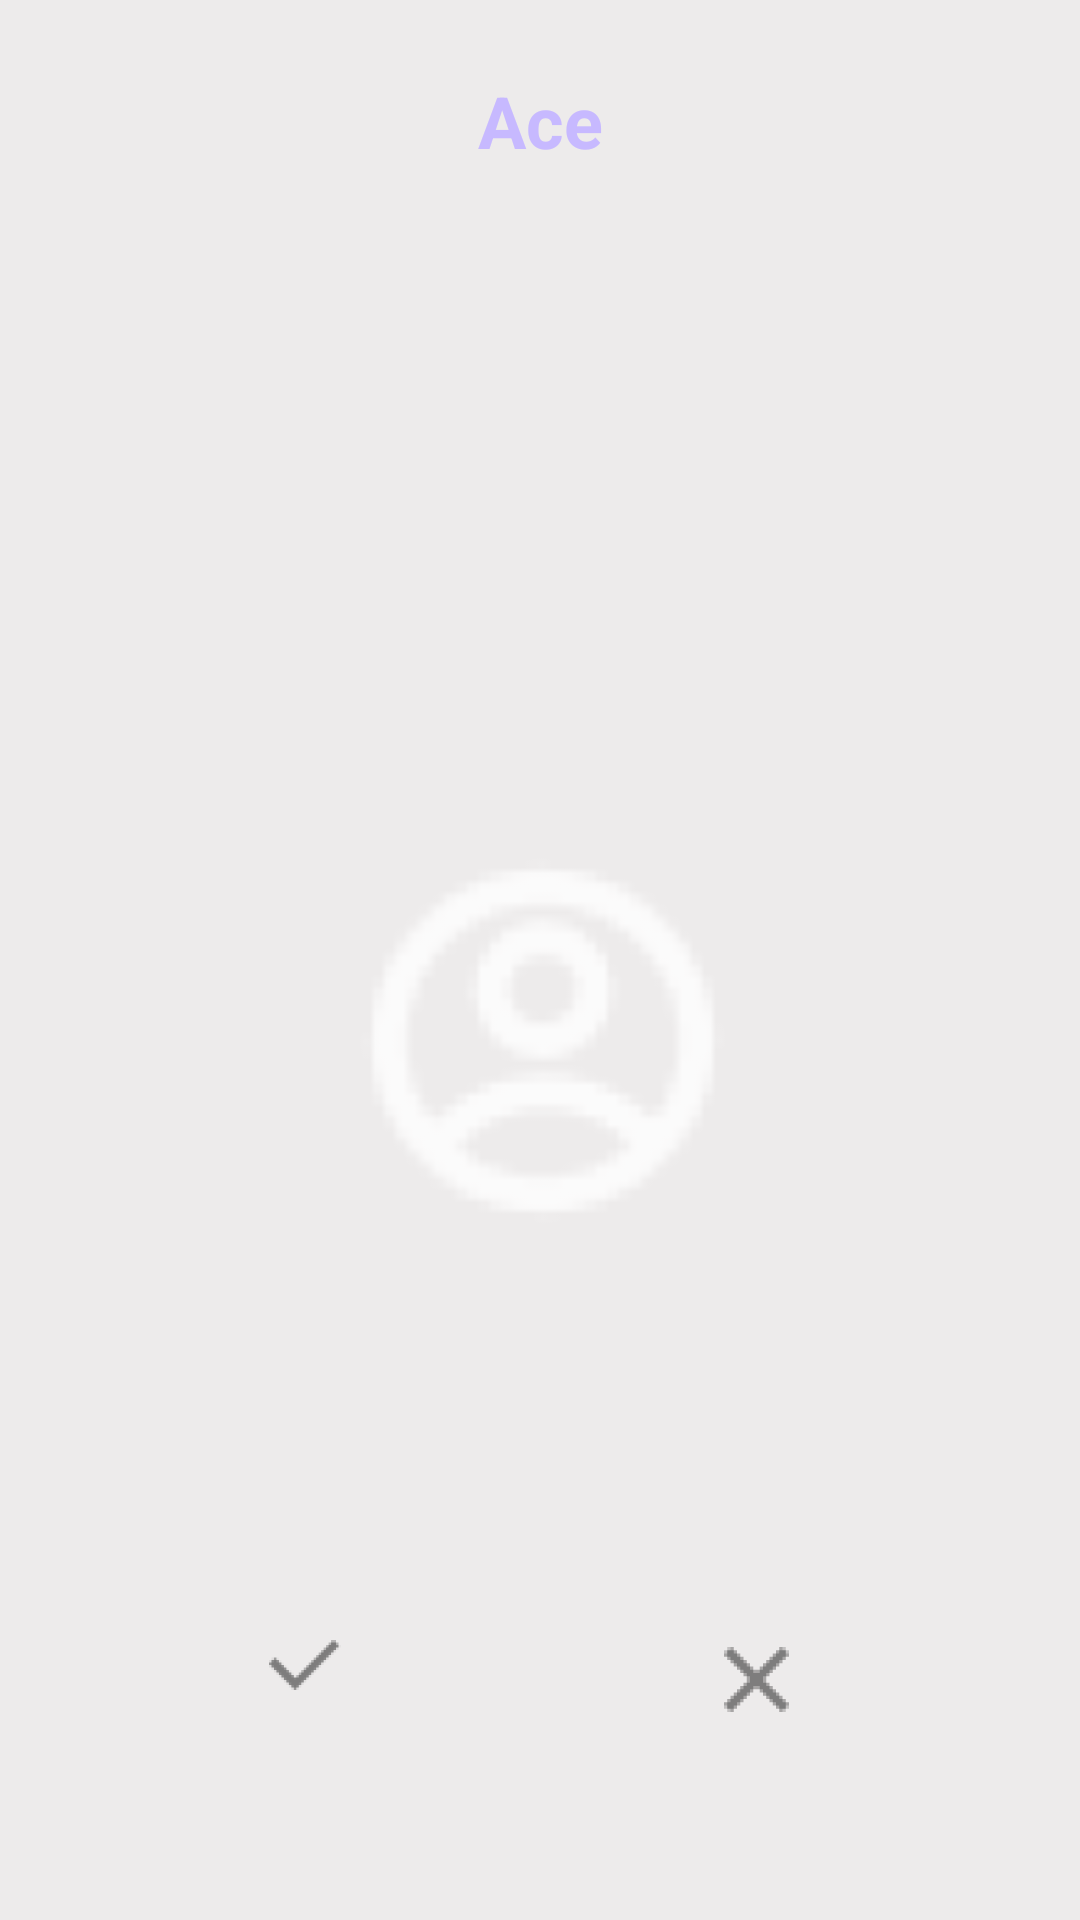

Icons on this 1080px x 1920px Android screen, each with its box as (x1, y1, x2, y2):
checks: (269, 1640, 339, 1690)
